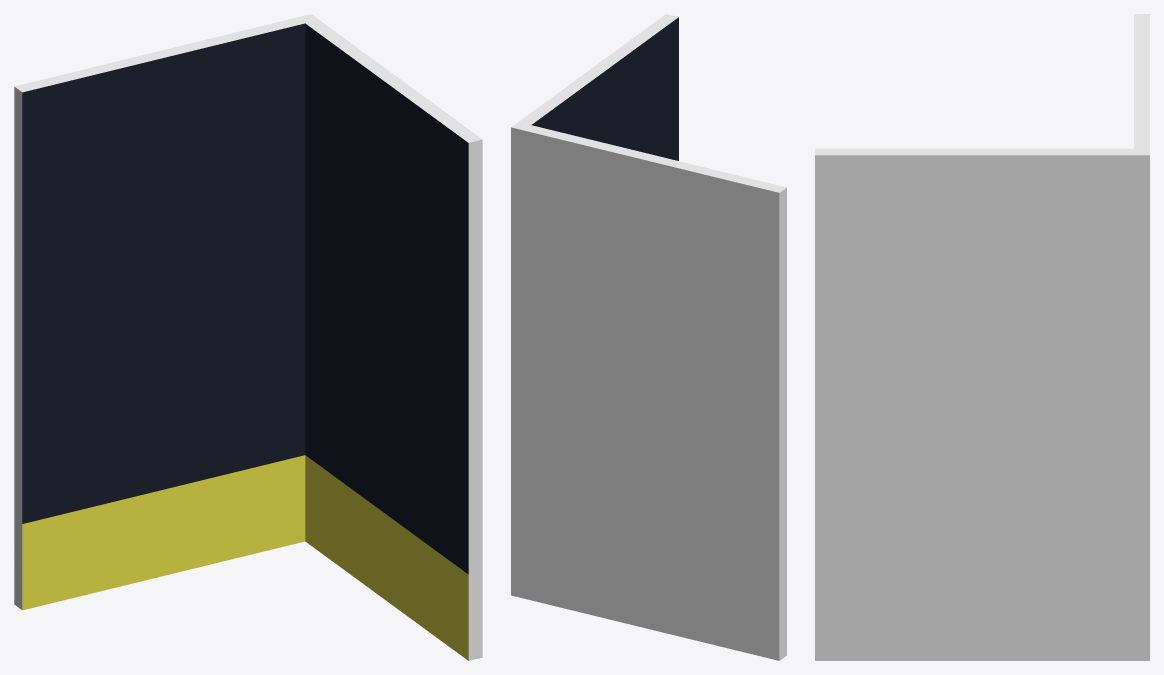
Rendered from Prop_WallCornor_04.fbx.
3 views of the same model, side by side, from view 1: azimuth 30°, elevation 25°; view 2: azimuth 150°, elevation 25°; view 3: azimuth 270°, elevation 25° (orthographic). The views are drawn at different scales.
Visible parts, largest first — view 1: Prop_WallCornor_04; view 2: Prop_WallCornor_04; view 3: Prop_WallCornor_04.
Boxes of the visible parts, left/top/right/bottom form: Prop_WallCornor_04: left=14, top=14, right=482, bottom=660; Prop_WallCornor_04: left=511, top=14, right=786, bottom=660; Prop_WallCornor_04: left=815, top=14, right=1149, bottom=660.
Size of the model in its own units: 210 by 350 by 210.
